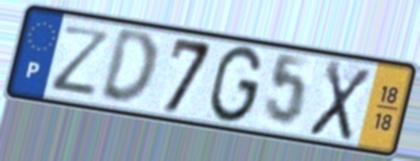5: (263, 50, 312, 134)
7: (164, 34, 214, 117)
D: (97, 29, 159, 109)
G: (205, 43, 266, 126)
X: (305, 57, 375, 145)
Z: (50, 22, 115, 98)
